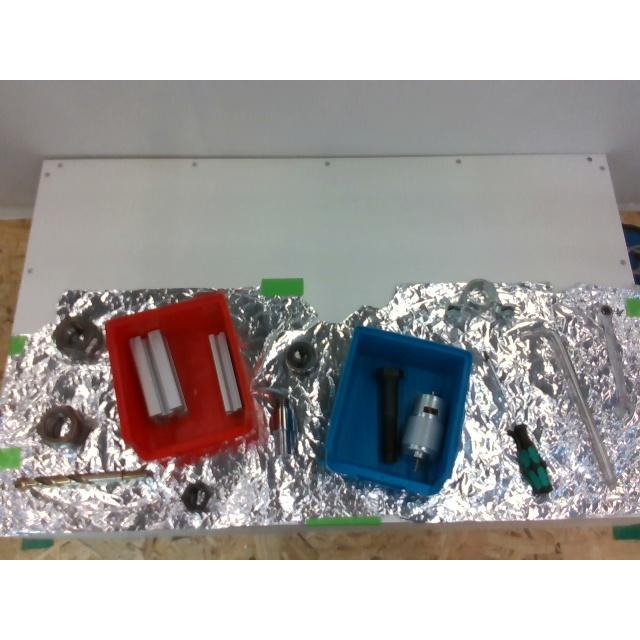AllenKey: (520, 322, 616, 486)
Axis2: (256, 386, 296, 454)
Bearing2: (284, 336, 316, 378)
Drill: (14, 468, 152, 488)
F20_20_G: (210, 332, 242, 412)
Housing: (446, 278, 514, 330)
M20: (181, 481, 213, 511)
M20_100: (376, 366, 404, 462)
M30: (52, 314, 104, 362), (36, 405, 92, 445)
Motor2: (402, 393, 446, 471)
S40_40_G: (130, 328, 186, 416)
Screwdriver: (482, 353, 552, 495)
Wrench: (598, 304, 634, 420)
container_box_blue: (325, 327, 471, 495)
container_box_red: (106, 292, 256, 460)
